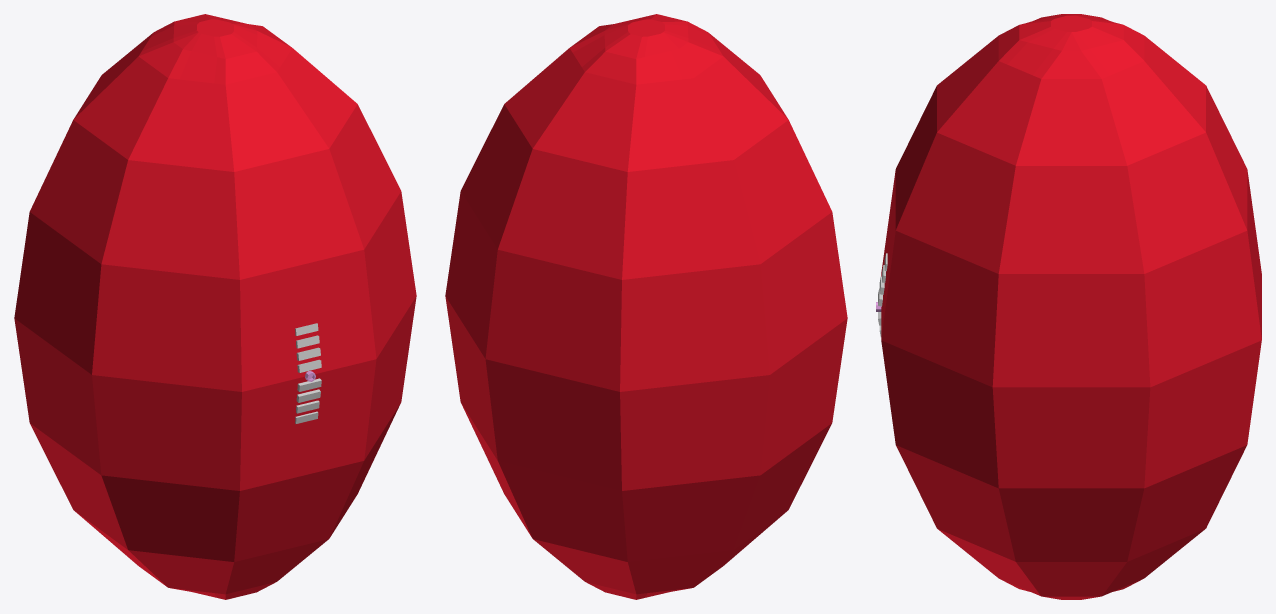
Rendered from Australian Football.fbx.
The picture shows the model from 3 angles, left to right: view 1: azimuth 30°, elevation 25°; view 2: azimuth 150°, elevation 25°; view 3: azimuth 270°, elevation 25°; orthographic projection.
Visible parts, largest first — view 1: Australian Football; view 2: Australian Football; view 3: Australian Football.
Part boxes in pixels (x1,y1,x2,y2): Australian Football: (14,14,416,599); Australian Football: (445,14,847,599); Australian Football: (876,14,1261,599).
Size of the model in its own units: 148 by 243 by 150.
